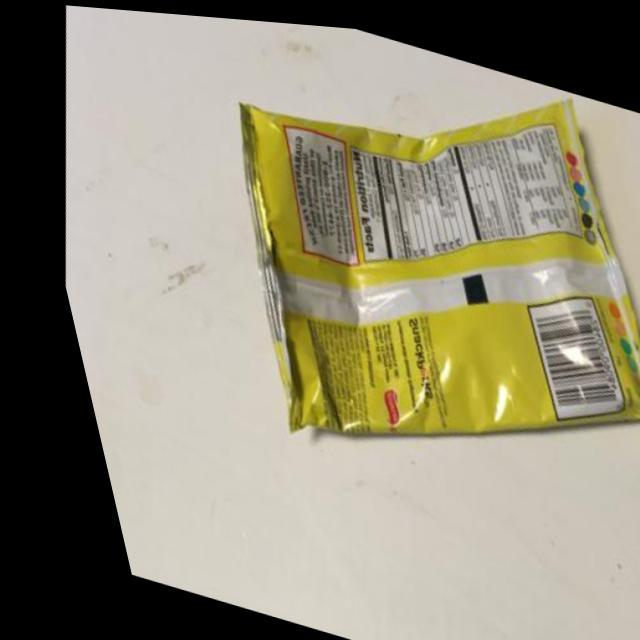trash: (93, 6, 640, 587)
